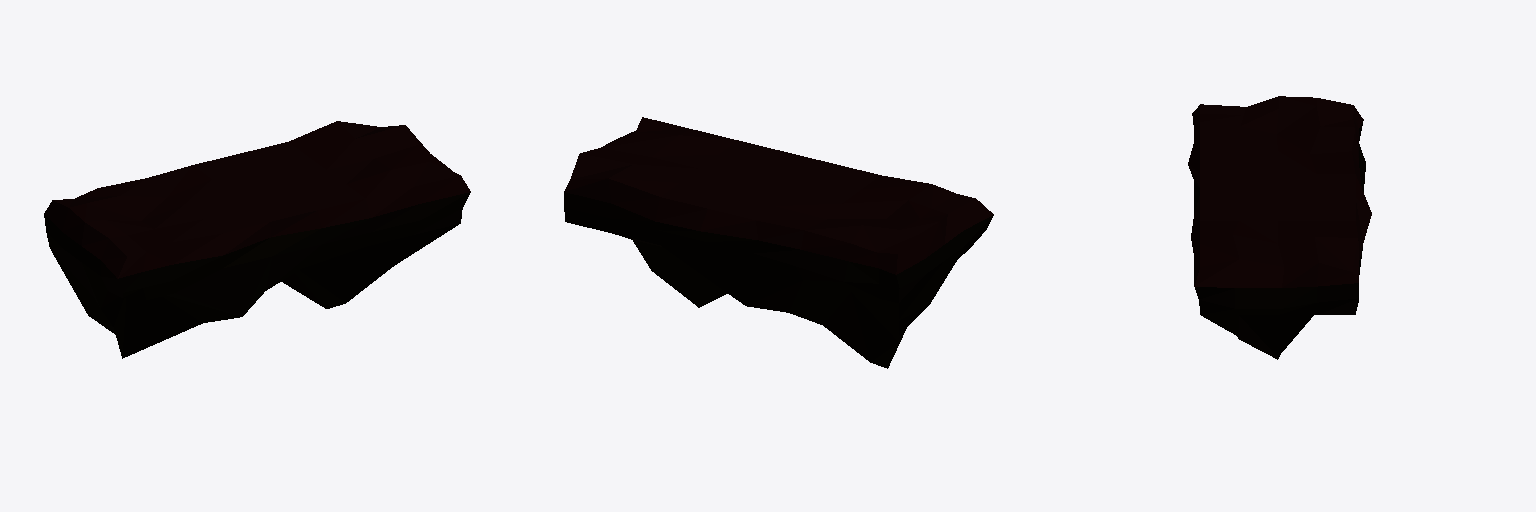
File: CavePlatform.obj
The picture shows the model from 3 angles: view 1: azimuth 30°, elevation 25°; view 2: azimuth 150°, elevation 25°; view 3: azimuth 270°, elevation 25°; orthographic projection.
Visible parts, largest first — view 1: pCube1; view 2: pCube1; view 3: pCube1.
Part boxes in pixels (x1,y1,x2,y2): pCube1: (44,121,470,358); pCube1: (564,117,993,368); pCube1: (1188,96,1371,359).
Bounding box in the file's own units: 7.91 × 3.19 × 3.46.